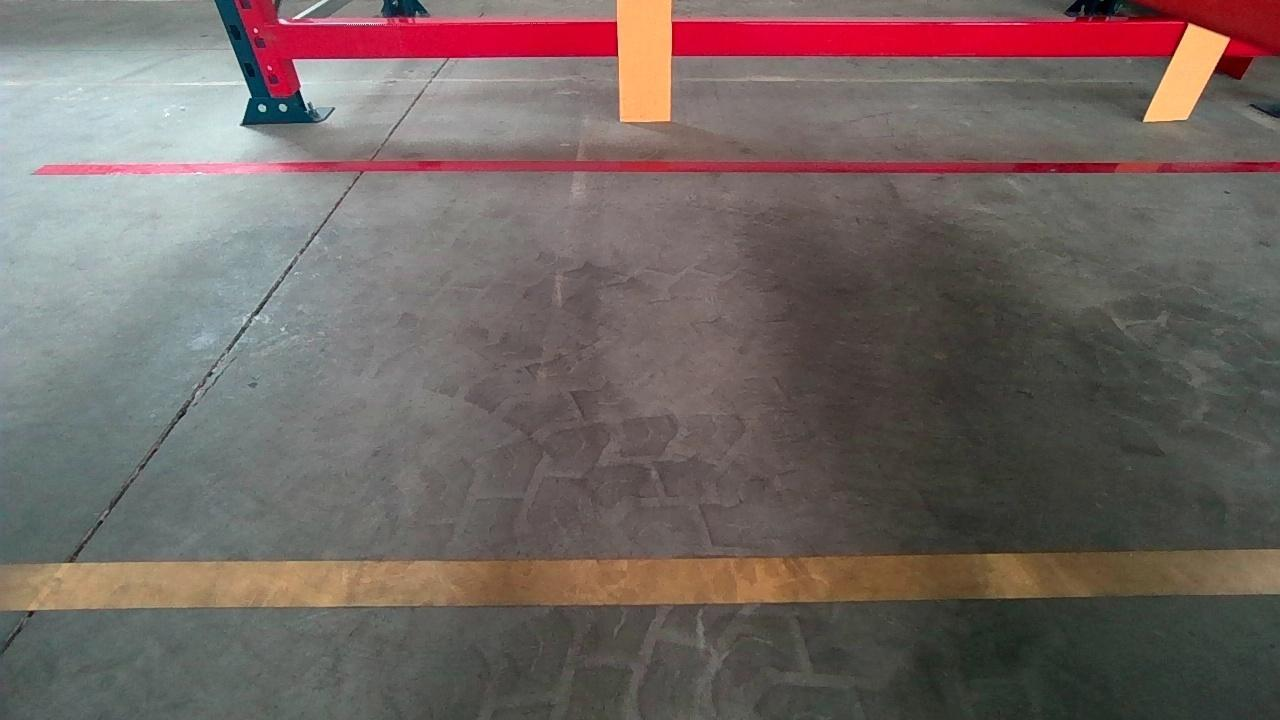h_rack: (278, 13, 1158, 62)
orange_strip: (1143, 24, 1235, 117), (617, 1, 673, 120)
red_line: (72, 156, 1267, 176)
yellow_line: (11, 547, 1257, 612)
